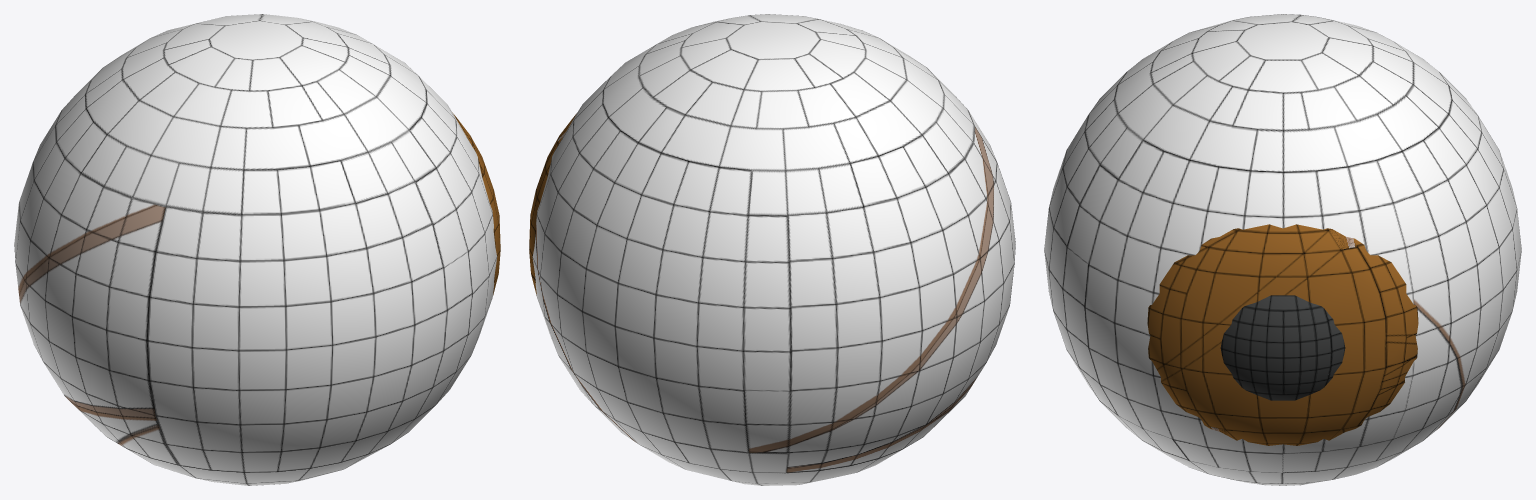
Rendered from eye2.dae.
3 renders of one model, left to right at view 1: azimuth 30°, elevation 25°; view 2: azimuth 150°, elevation 25°; view 3: azimuth 270°, elevation 25°, orthographic.
Visible parts, largest first — view 1: Sphere; view 2: Sphere; view 3: Sphere.
Boxes of the visible parts, x1=… form: Sphere: x1=14, y1=14, x2=500, y2=485; Sphere: x1=529, y1=14, x2=1015, y2=485; Sphere: x1=1044, y1=14, x2=1521, y2=485.
Size of the model in its own units: 1.32 by 1.26 by 1.22.
Materials: 3 (3 with a texture image).
